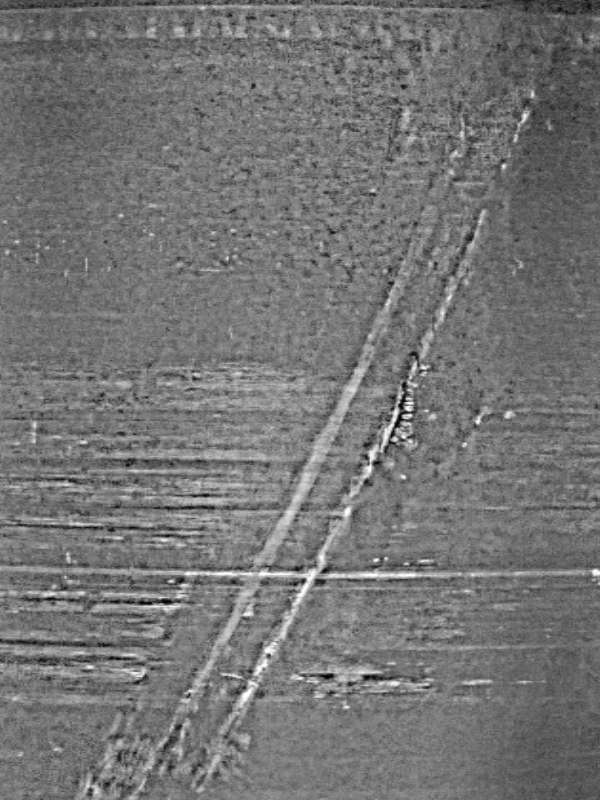splice_vulcanized: (71, 16, 567, 800)
